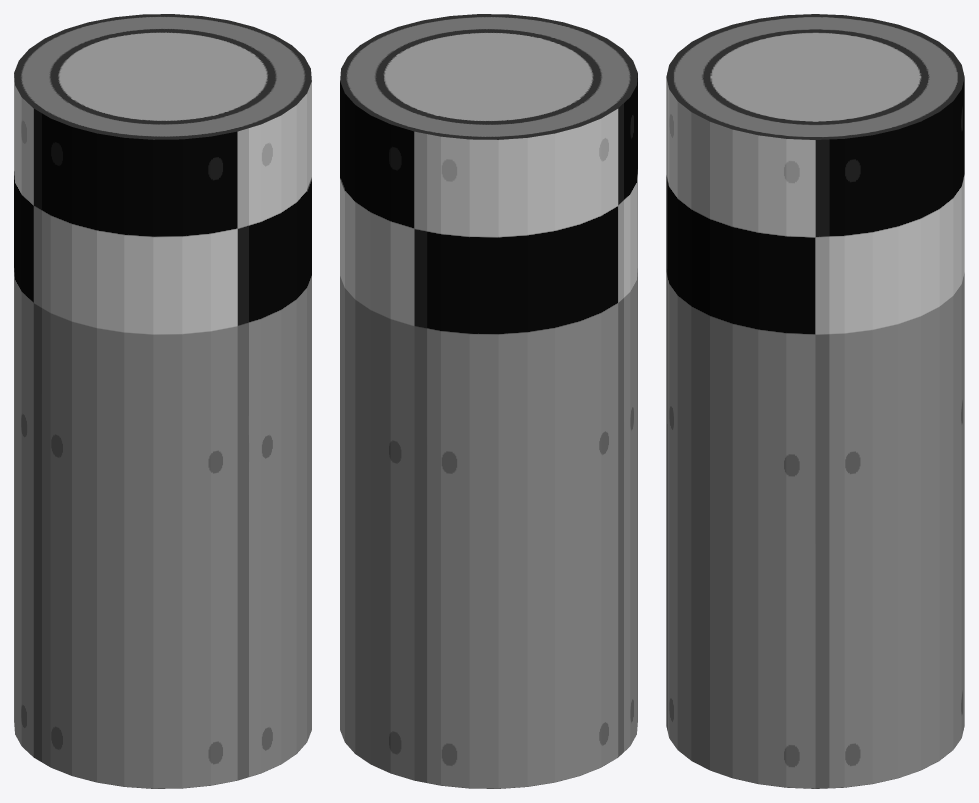
File: 25long.fbx
The picture shows the model from 3 angles, left to right: view 1: azimuth 30°, elevation 25°; view 2: azimuth 150°, elevation 25°; view 3: azimuth 270°, elevation 25°; orthographic projection.
Visible parts, largest first — view 1: Cylinder; view 2: Cylinder; view 3: Cylinder.
Part boxes in pixels (x1,y1,x2,y2): Cylinder: (14, 14, 311, 788); Cylinder: (340, 14, 637, 788); Cylinder: (666, 14, 964, 788).
Size of the model in its own units: 250 by 600 by 250.
